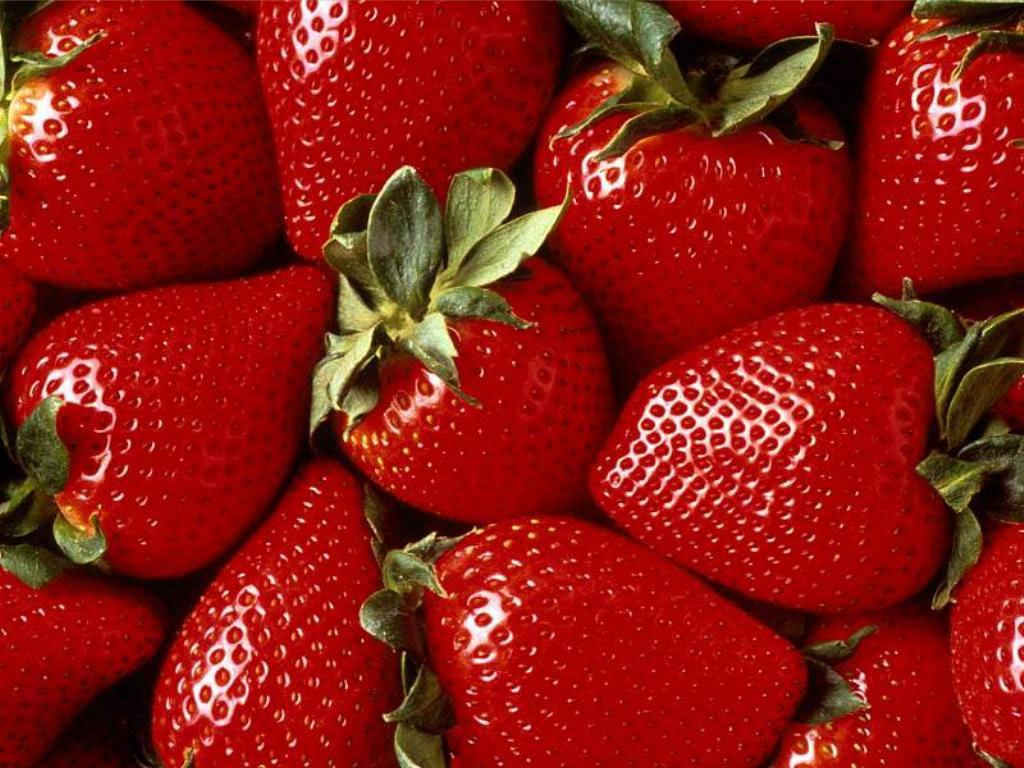strawberry: (581, 292, 987, 606), (371, 518, 814, 768), (16, 258, 329, 573), (331, 186, 615, 519), (534, 20, 847, 321), (147, 457, 417, 768), (250, 0, 561, 261), (6, 4, 285, 285), (857, 0, 1024, 294)
